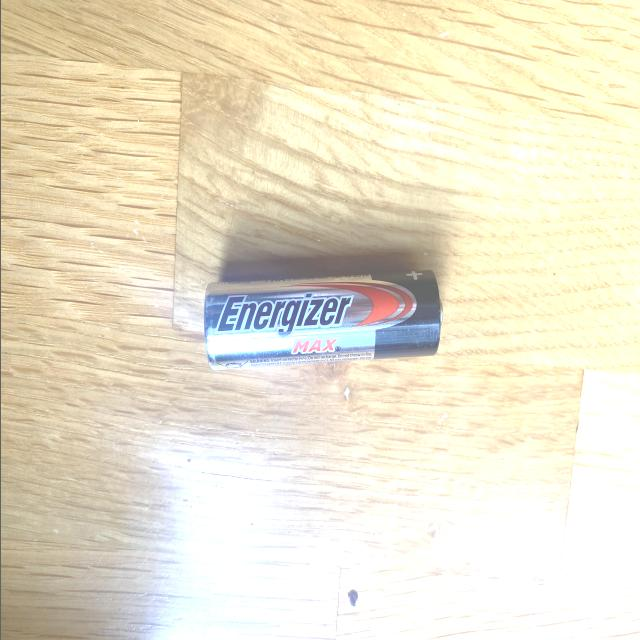AA: (203, 268, 443, 371)
